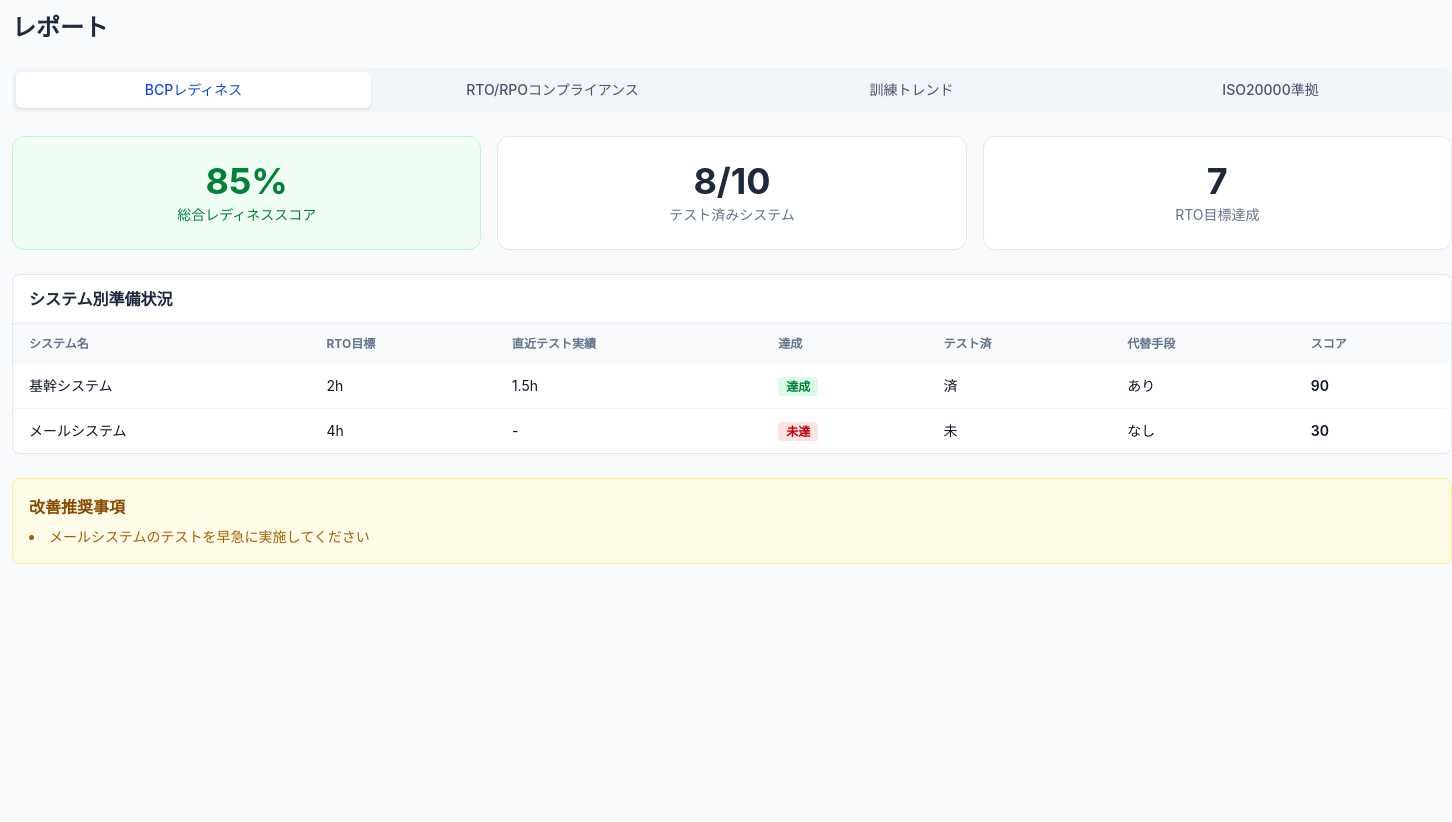
Test: ReportsPage error state › shows error message when compliance API fails
Expected: the text "総合レディネススコア" is shown, [177,206,316,223]
Click the button "RTO/RPOコンプライアンス".
click(552, 90)  # box [375,72,730,108]
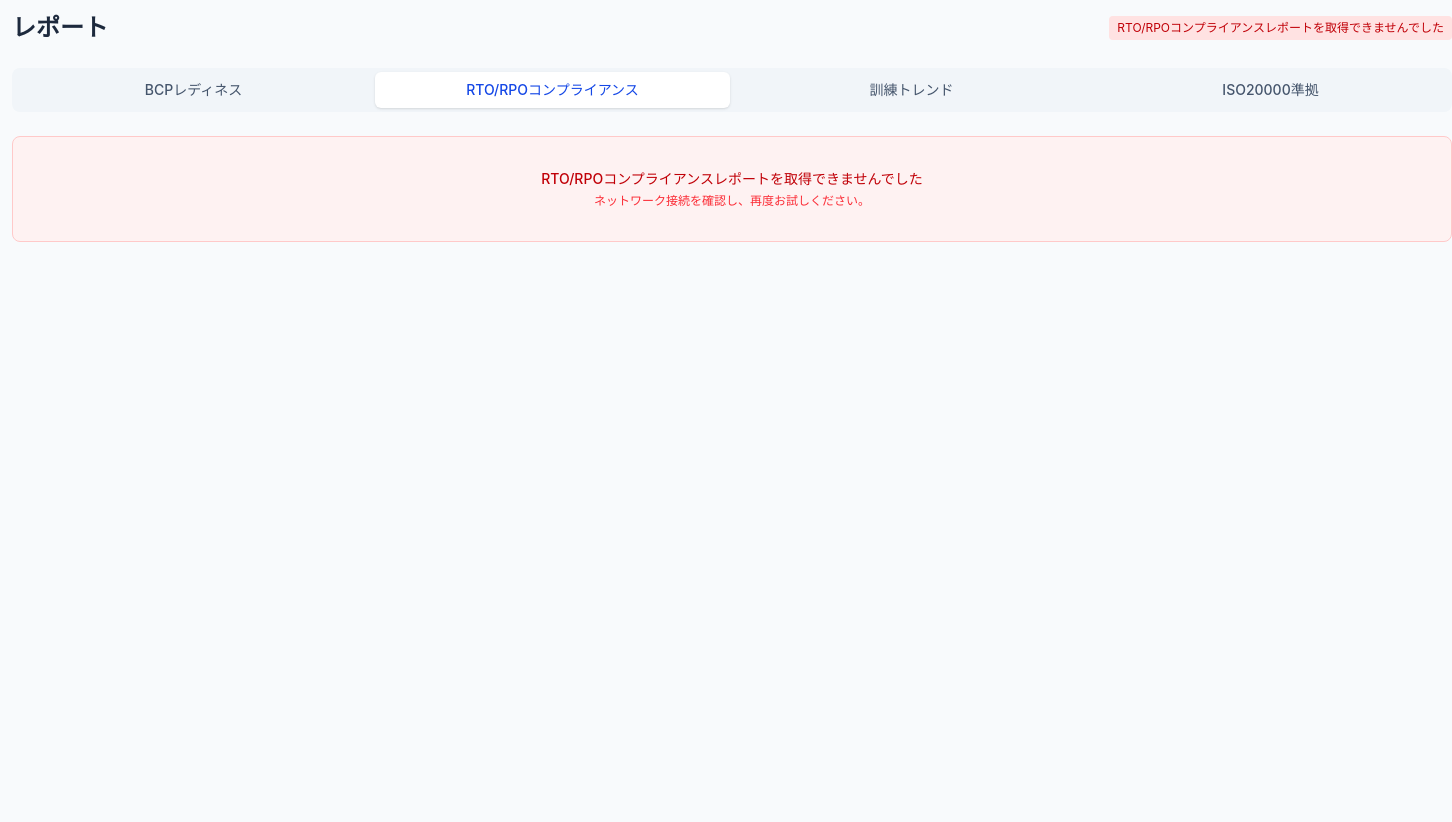
Result: the text "RTO/RPOコンプライアンスレポートを取得できませんでした" is shown 2 times at [1109,16,1451,40]; [541,170,923,187]
